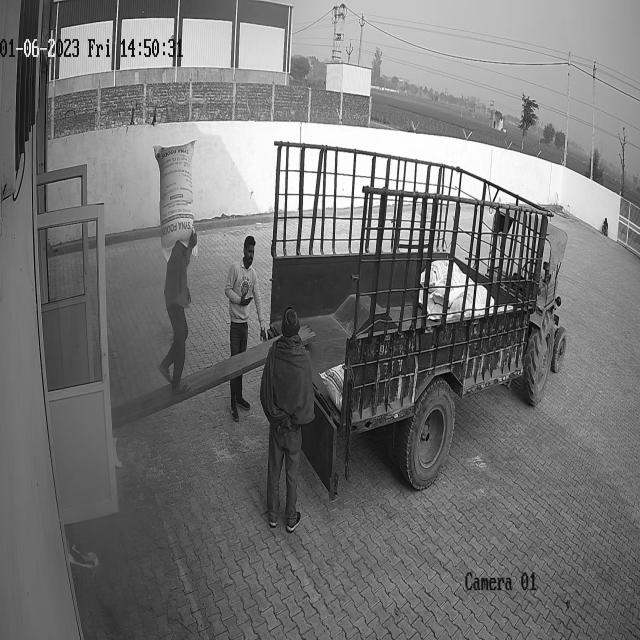sack: (151, 141, 195, 260)
